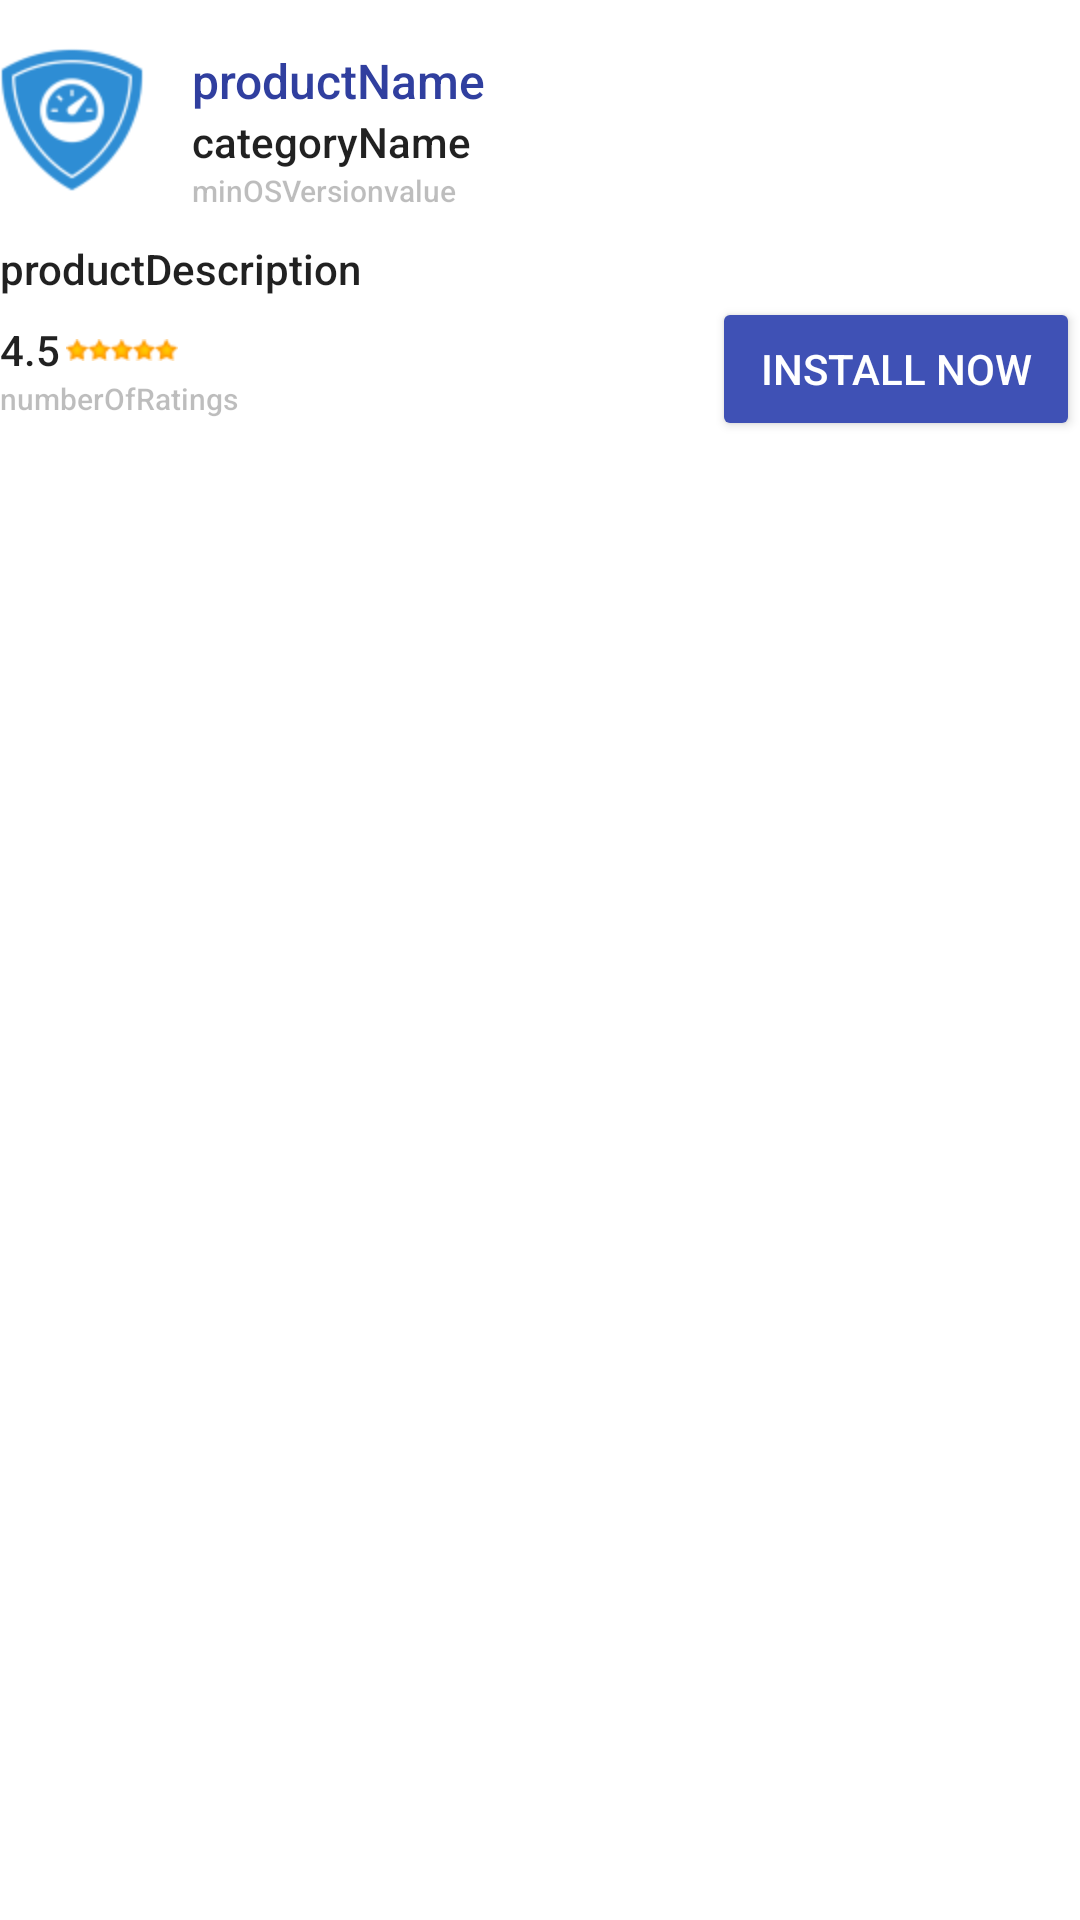

Where icons sit on this 1080px×1920px app screen, as (x1, y1, x2, y2):
app: (1, 49, 143, 191)
